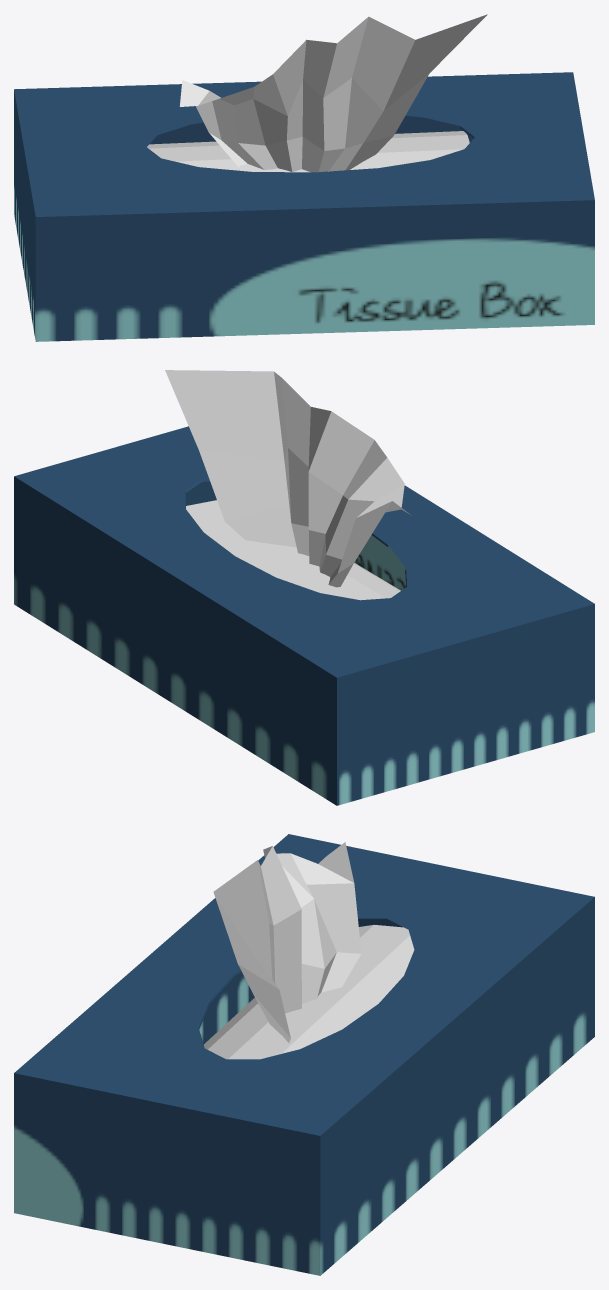
Rendered from TissuesBox.fbx.
3 views of the same model, one above another, from view 1: azimuth 30°, elevation 25°; view 2: azimuth 150°, elevation 25°; view 3: azimuth 270°, elevation 25° (orthographic). The views are drawn at different scales.
Parts seen in each view (by area): view 1: Tissues; view 2: Tissues; view 3: Tissues.
Boxes of the visible parts, box(x1,y1,x2,y2) form: Tissues: box(14, 14, 594, 341); Tissues: box(14, 370, 594, 805); Tissues: box(14, 834, 594, 1275).
Bounding box in the file's own units: 43.39 × 19.36 × 35.28.
2 materials, 1 textured.
